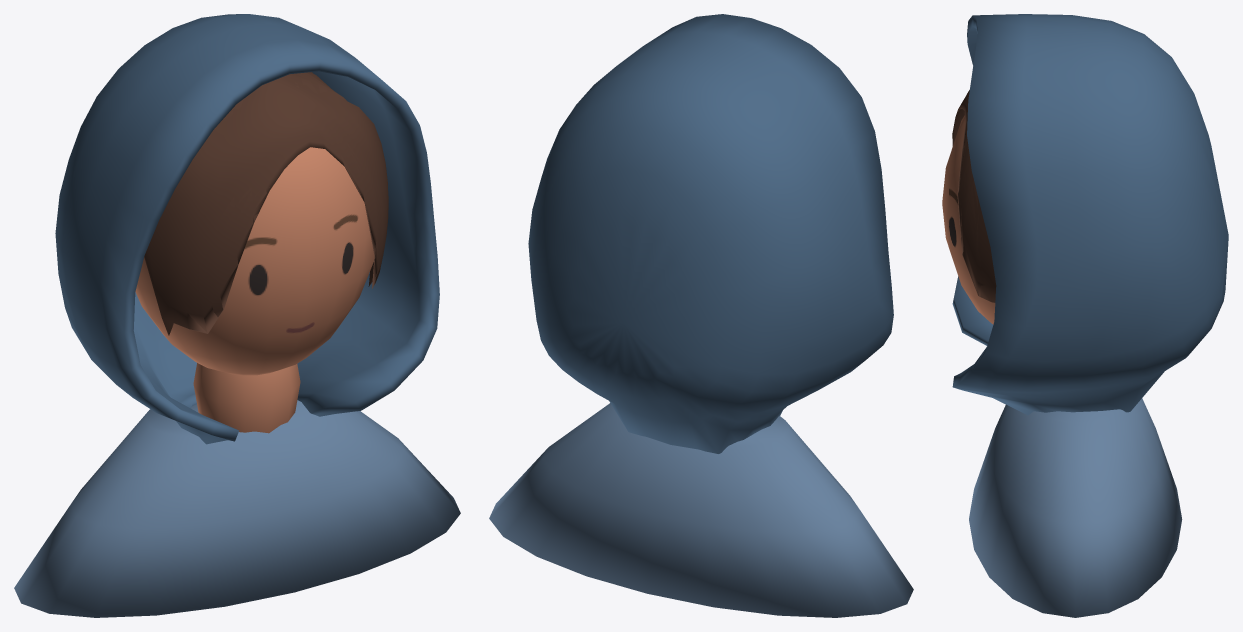
Rendered from traveller_painted_bun.glb.
3 views of the same model, side by side, from view 1: azimuth 30°, elevation 25°; view 2: azimuth 150°, elevation 25°; view 3: azimuth 270°, elevation 25° (orthographic). The views are drawn at different scales.
Parts seen in each view (by area): view 1: Hood, TravellerBody, HairCap.Bun, Head, Neck; view 2: Hood, TravellerBody; view 3: Hood, TravellerBody, HairCap.Bun, Head.
Boxes of the visible parts, left/top/right/bottom form: Hood: left=55, top=14, right=439, bottom=444; TravellerBody: left=14, top=400, right=460, bottom=617; HairCap.Bun: left=144, top=72, right=388, bottom=335; Head: left=135, top=147, right=374, bottom=375; Neck: left=193, top=363, right=300, bottom=433; Hood: left=528, top=14, right=893, bottom=453; TravellerBody: left=489, top=403, right=913, bottom=617; Hood: left=952, top=14, right=1228, bottom=415; TravellerBody: left=969, top=398, right=1182, bottom=617; HairCap.Bun: left=952, top=90, right=996, bottom=302; Head: left=942, top=115, right=995, bottom=324.
Bounding box in the file's own units: 2.1 × 2.44 × 1.29.
2 materials, 2 textured.
